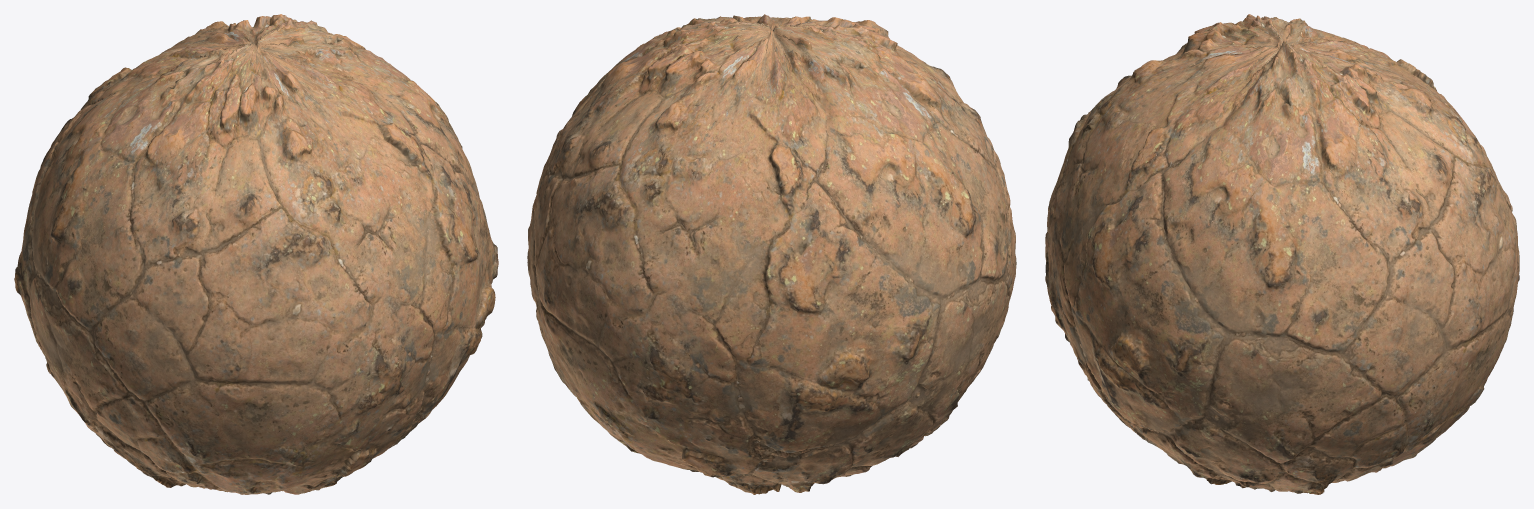
File: rock_boulder_cracked_1k.gltf
The picture shows the model from 3 angles, left to right: view 1: azimuth 30°, elevation 25°; view 2: azimuth 150°, elevation 25°; view 3: azimuth 270°, elevation 25°; orthographic projection. The views are drawn at different scales.
Visible parts, largest first — view 1: sphere_gltf; view 2: sphere_gltf; view 3: sphere_gltf.
Boxes of the visible parts, bbox=[...] form: sphere_gltf: bbox=[14, 14, 498, 494]; sphere_gltf: bbox=[527, 14, 1016, 494]; sphere_gltf: bbox=[1045, 14, 1519, 494].
Size of the model in its own units: 1.39 by 1.43 by 1.4.
Materials: 1 (1 with a texture image).
